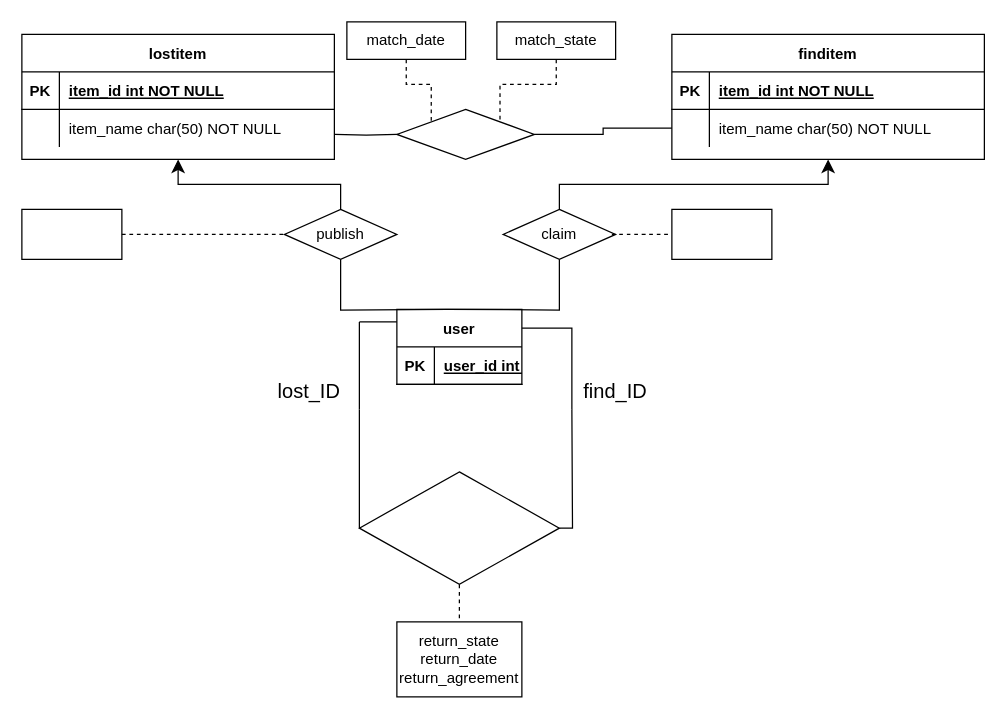
The diagram is 1006 pixels wide and 719 high, and some of its shapes have lost their labels. The centre of each missing label's shape, as x and y in pixels:
claim_state claim_date: (x=721, y=233)
match: (x=465, y=133)
publish_state publish_date: (x=71, y=233)
return_item_agreement: (x=458, y=527)
